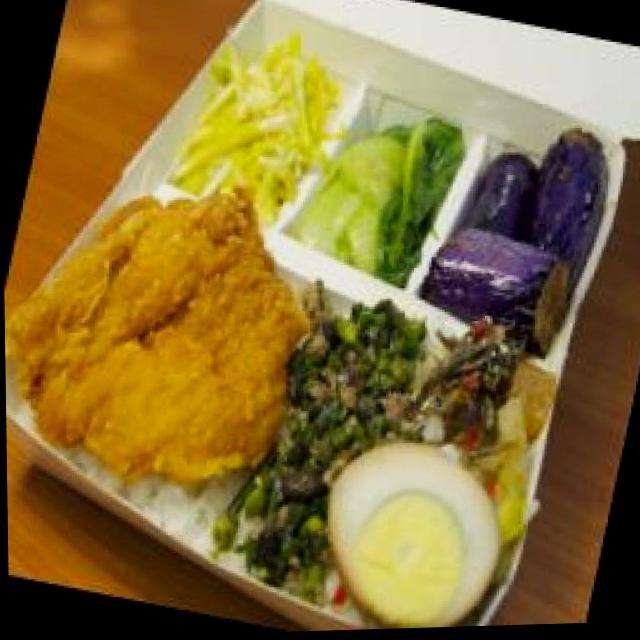fried_chicken: (2, 130, 344, 511)
